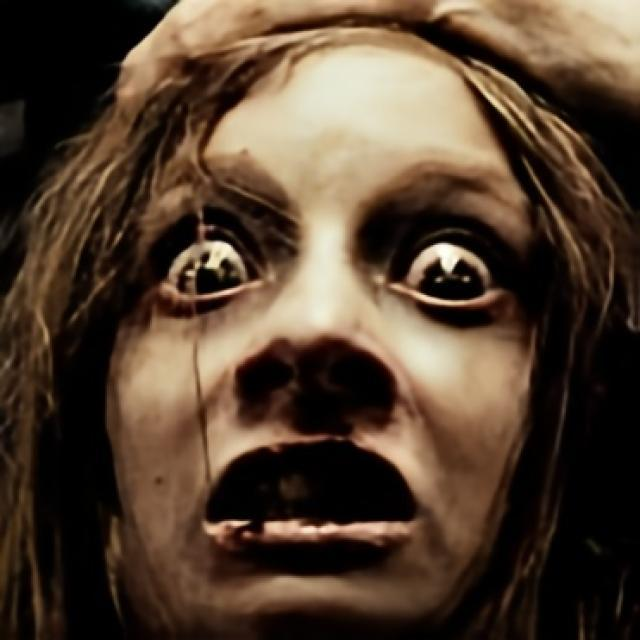Fear: (102, 25, 543, 640)
